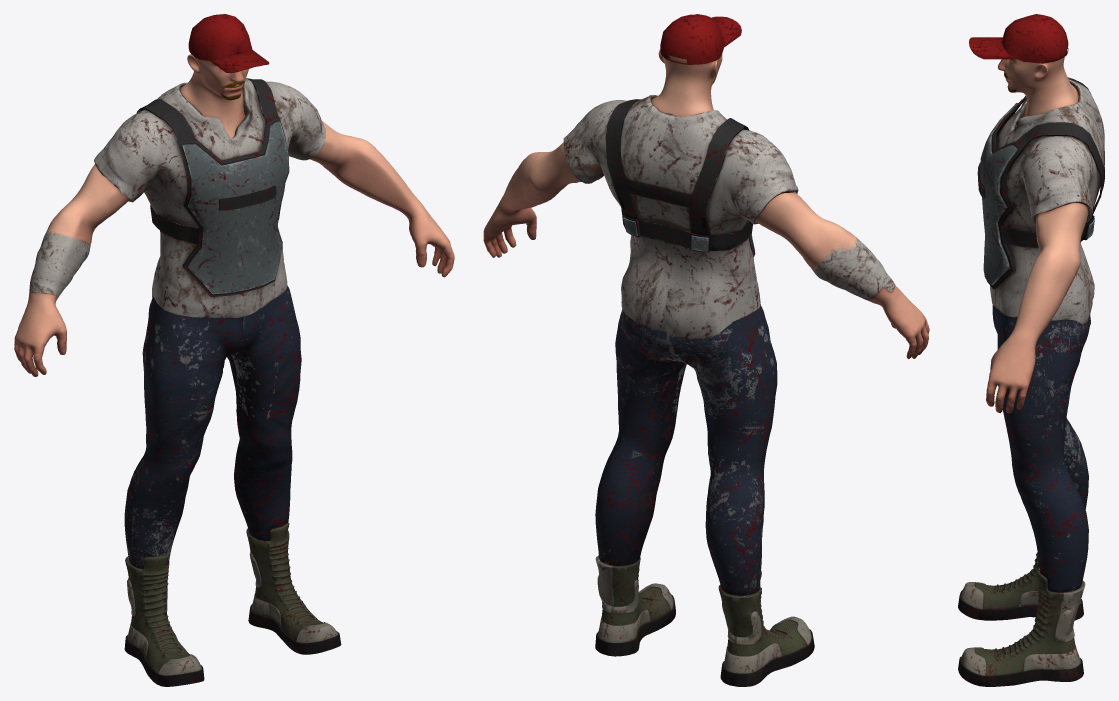
File: Adam.fbx
The picture shows the model from 3 angles, left to right: view 1: azimuth 30°, elevation 25°; view 2: azimuth 150°, elevation 25°; view 3: azimuth 270°, elevation 25°; orthographic projection.
Visible parts, largest first — view 1: PantsLow.002; view 2: PantsLow.002; view 3: PantsLow.002.
Boxes of the visible parts, left/top/right/bottom form: PantsLow.002: left=14, top=14, right=454, bottom=686; PantsLow.002: left=483, top=14, right=929, bottom=686; PantsLow.002: left=958, top=14, right=1104, bottom=686.
Bounding box in the file's own units: 1.33 × 1.86 × 0.3948.
